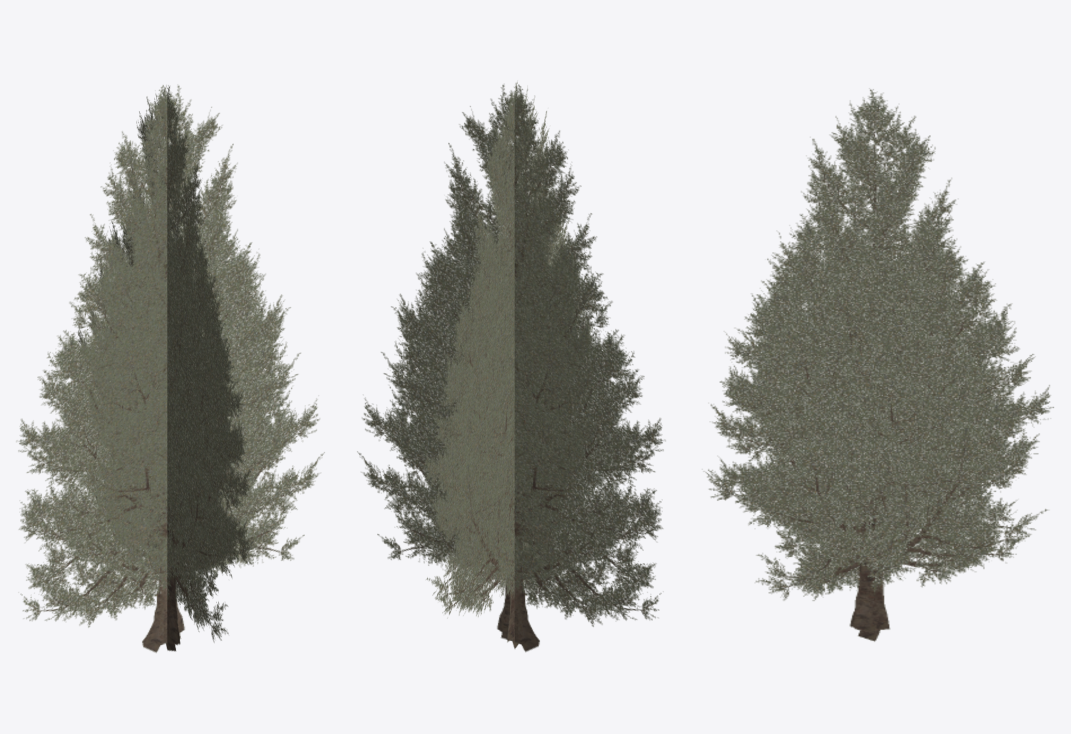
The model's file is JuniperusOccidentalis.glb.
3 renders of one model, left to right at view 1: azimuth 30°, elevation 25°; view 2: azimuth 150°, elevation 25°; view 3: azimuth 270°, elevation 25°, orthographic. The views are drawn at different scales.
Parts seen in each view (by area): view 1: mesh__mat_billboard_6; view 2: mesh__mat_billboard_6; view 3: mesh__mat_billboard_6.
Boxes of the visible parts, x1,y1,x2,y2 form: mesh__mat_billboard_6: [16, 85, 324, 652]; mesh__mat_billboard_6: [357, 82, 665, 651]; mesh__mat_billboard_6: [703, 88, 1053, 641].
Size of the model in its own units: 6.21 by 10.82 by 6.35.
Materials: 1 (1 with a texture image).
